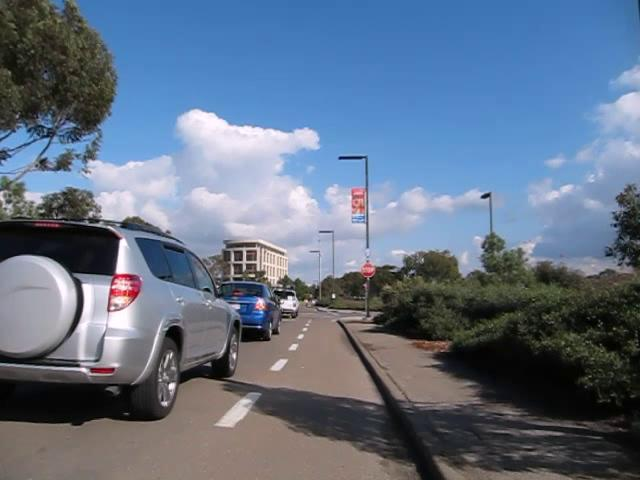stop: (361, 262, 375, 277)
